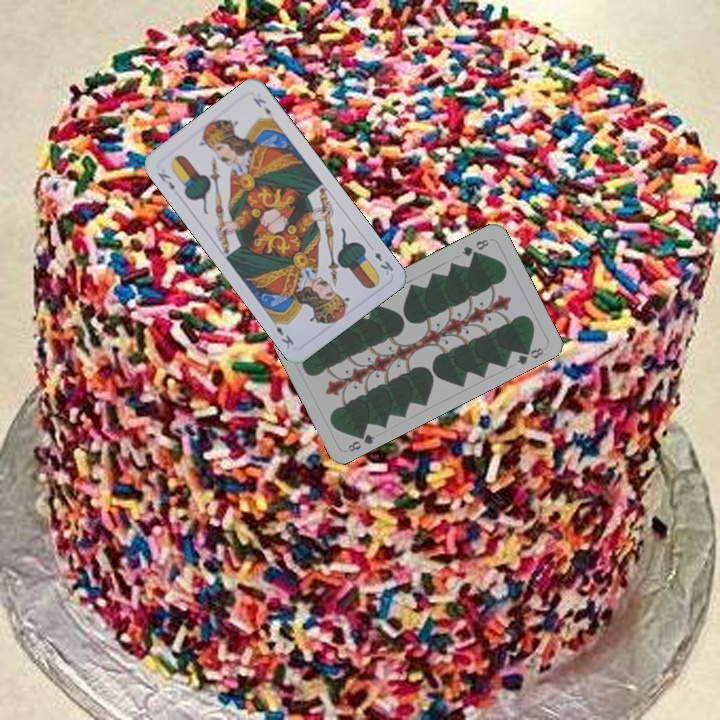EK: (370, 248, 396, 277), (153, 168, 177, 193)
G8: (344, 427, 378, 455), (457, 235, 491, 259)
